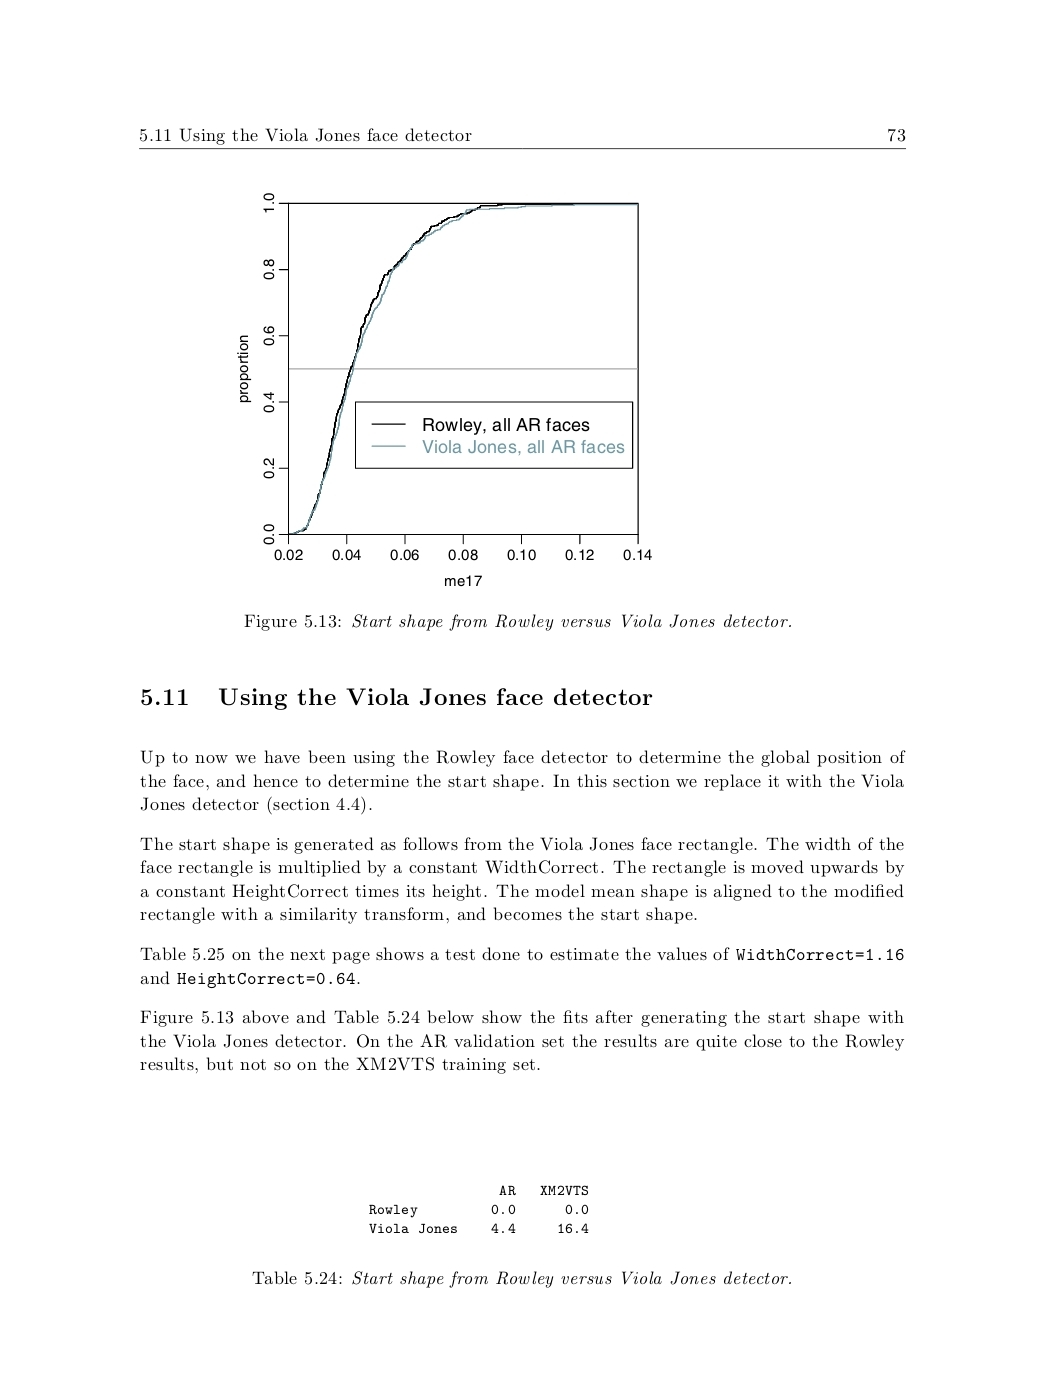Table: (369, 1185, 588, 1233)
figure: (237, 193, 651, 559)
